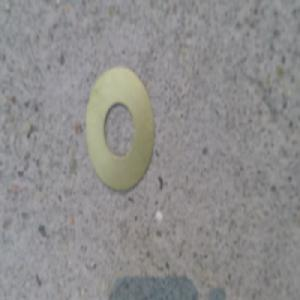Washer: (86, 64, 157, 196)
